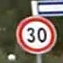limite 30: (14, 14, 57, 53)
